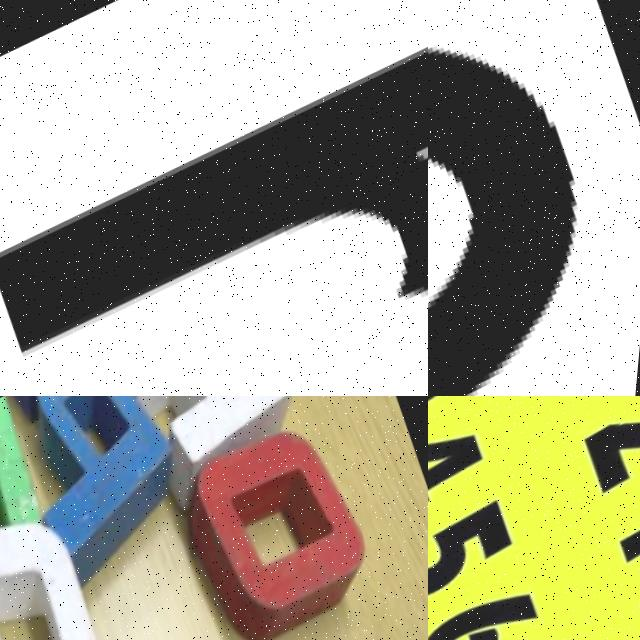1: (602, 462, 640, 582)
4: (428, 397, 516, 550)
5: (428, 484, 543, 629)
6: (428, 563, 576, 640)
H: (103, 396, 316, 509)
O: (148, 405, 405, 640), (428, 47, 583, 396)
Q: (0, 474, 161, 640)
R: (0, 18, 428, 396)
